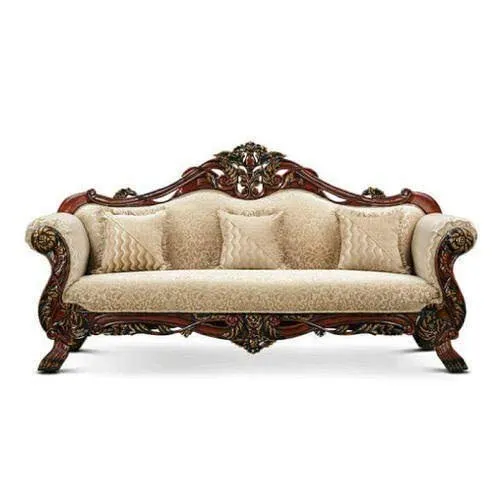3seatersofa: (26, 142, 476, 372)
leftarmrest: (413, 214, 476, 285)
leg: (28, 224, 470, 372)
pillow: (100, 213, 169, 272), (217, 210, 286, 269), (335, 211, 402, 271)
rightarmrest: (26, 213, 89, 287)
seat: (64, 269, 437, 313)
